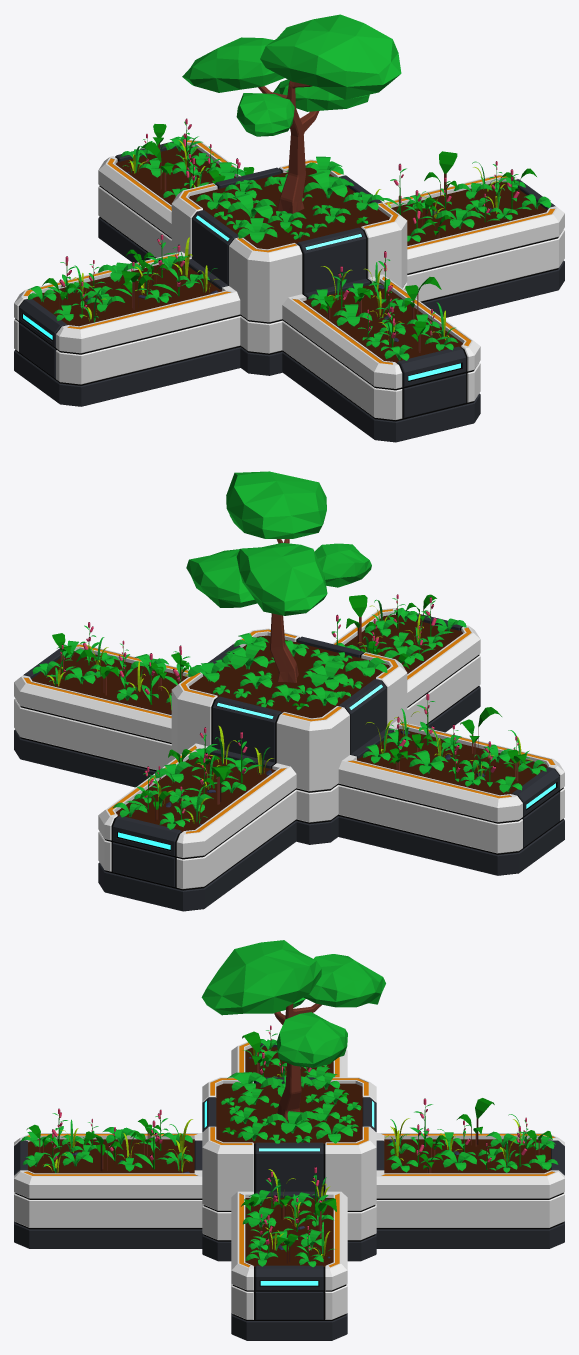
File: SM_Botanical_CrossHub.fbx
3 renders of one model, top to bottom at view 1: azimuth 30°, elevation 25°; view 2: azimuth 150°, elevation 25°; view 3: azimuth 270°, elevation 25°, orthographic. The views are drawn at different scales.
Parts seen in each view (by area): view 1: SM_Botanical_CrossHub; view 2: SM_Botanical_CrossHub; view 3: SM_Botanical_CrossHub.
Boxes of the visible parts, x1,y1,x2,y2 form: SM_Botanical_CrossHub: [14, 14, 564, 442]; SM_Botanical_CrossHub: [14, 471, 564, 911]; SM_Botanical_CrossHub: [14, 940, 564, 1340].
Size of the model in its own units: 475 by 268 by 475.
